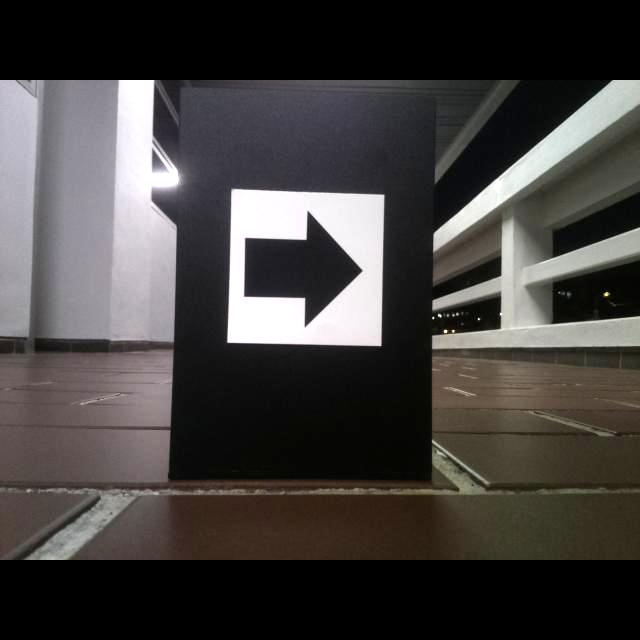RIGHT: (244, 210, 362, 326)
